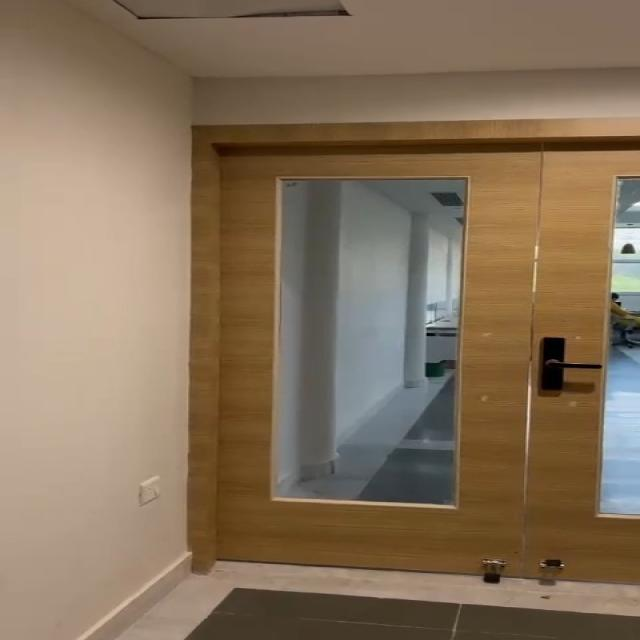door: (192, 115, 640, 560)
floor: (198, 563, 640, 640)
wall: (6, 20, 187, 609)
